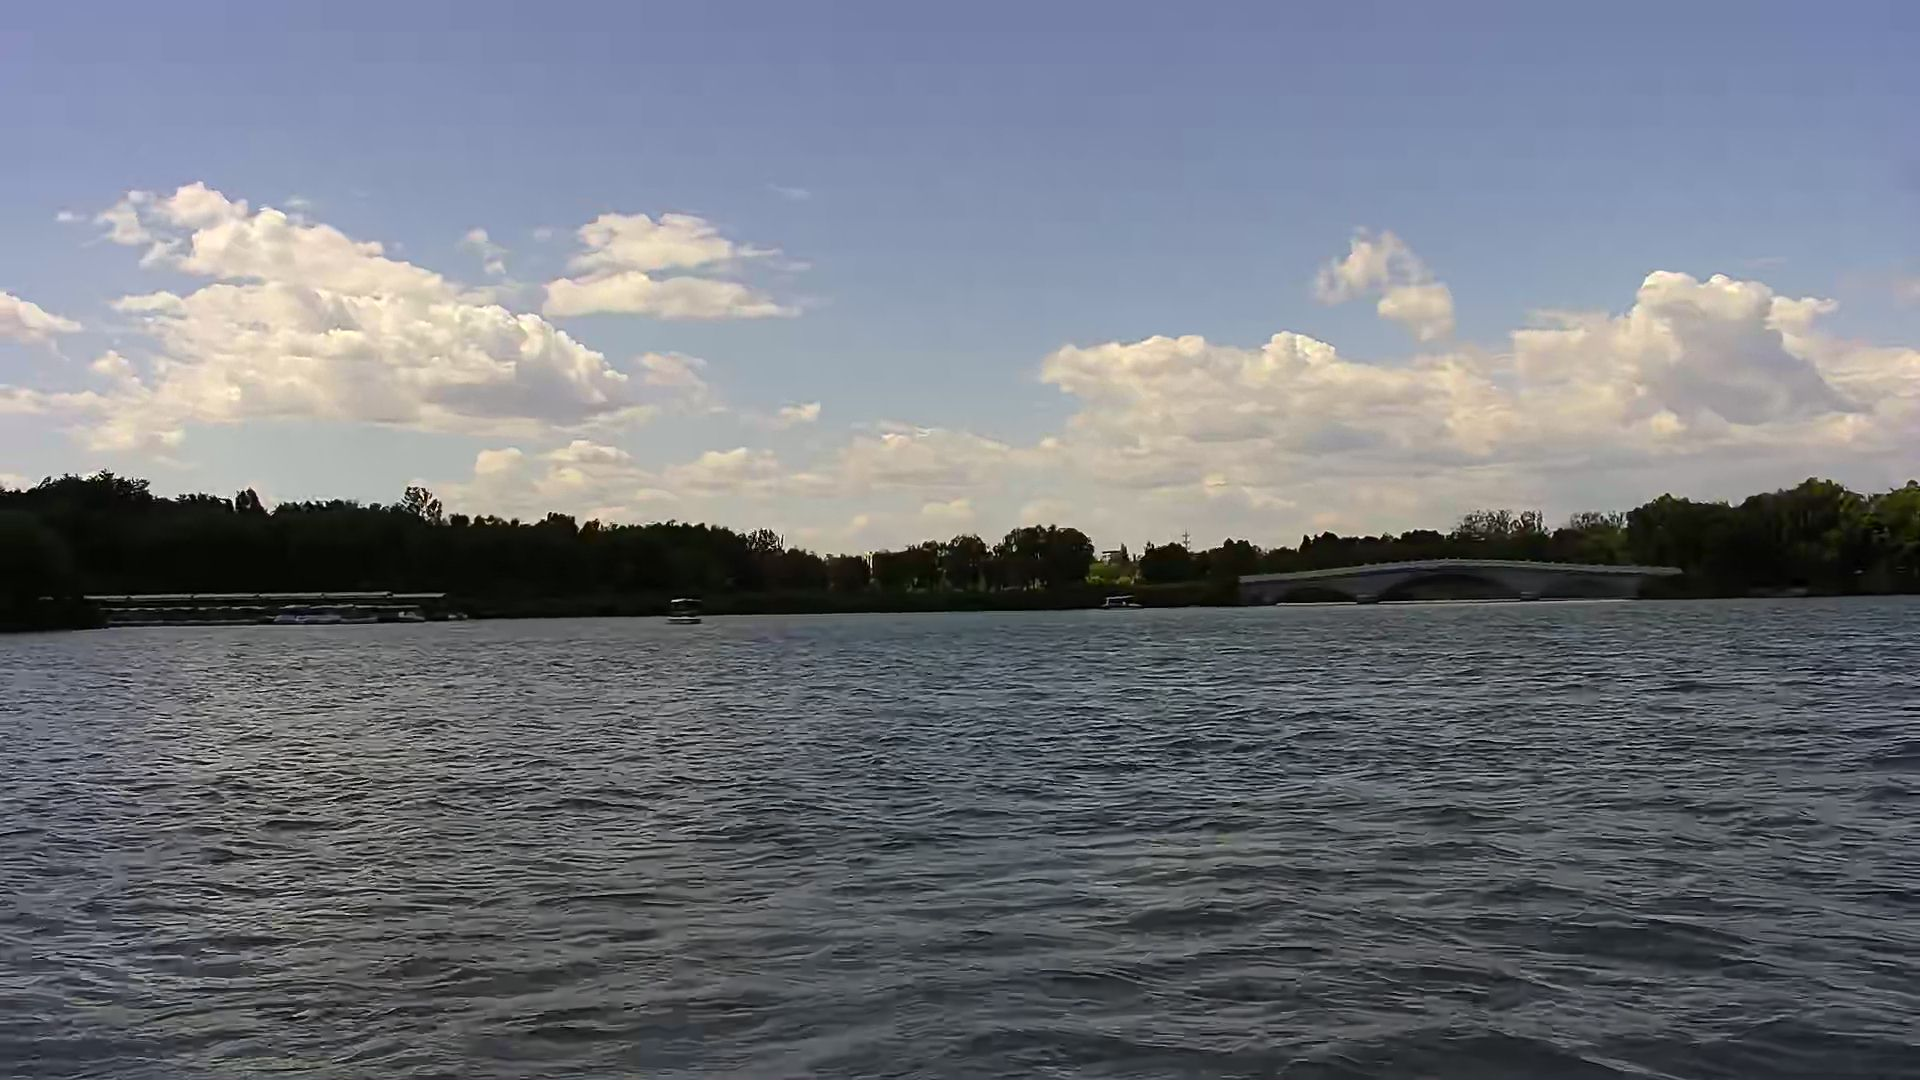boat: (665, 591, 709, 632), (1100, 589, 1145, 616)
bridge: (1236, 553, 1681, 607)
harbor: (82, 585, 458, 622)
